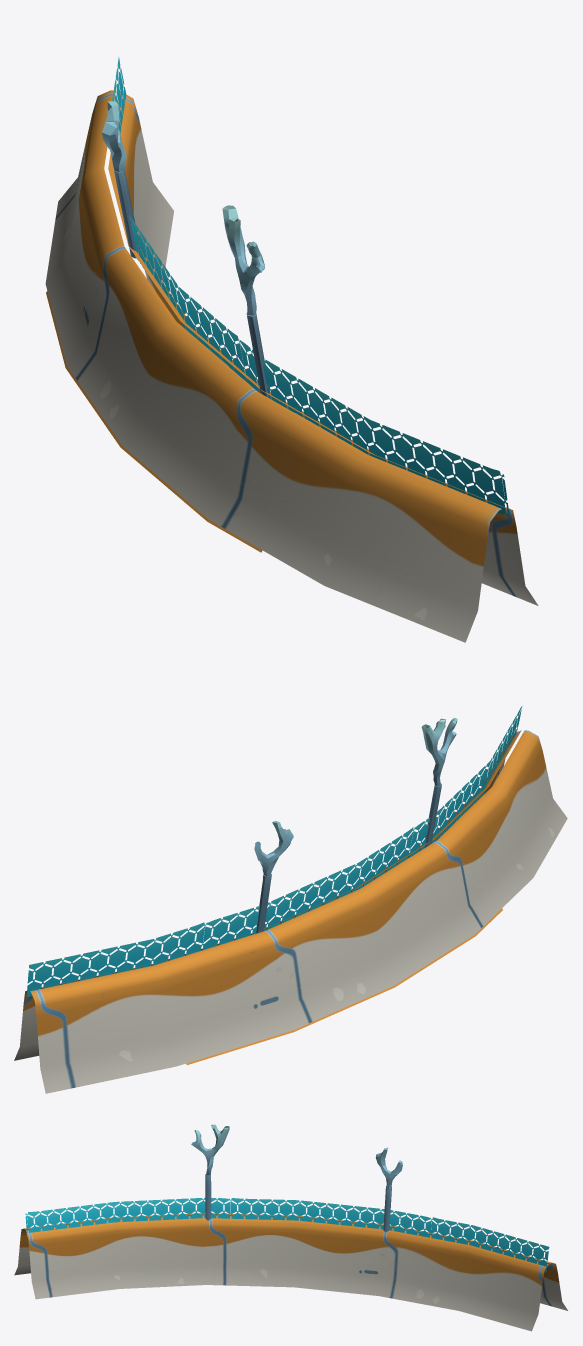
File: mur_vision2 (1).fbx
3 views of the same model, one above another, from view 1: azimuth 30°, elevation 25°; view 2: azimuth 150°, elevation 25°; view 3: azimuth 270°, elevation 25° (orthographic). The views are drawn at different scales.
Visible parts, largest first — view 1: S_Wall_025; view 2: S_Wall_025; view 3: S_Wall_025.
Boxes of the visible parts, <box> form: S_Wall_025: <box>45,57,538,642</box>; S_Wall_025: <box>14,706,567,1093</box>; S_Wall_025: <box>14,1124,567,1331</box>.
Bounding box in the file's own units: 330 × 314 × 1082.
Materials: 1 (1 with a texture image).
